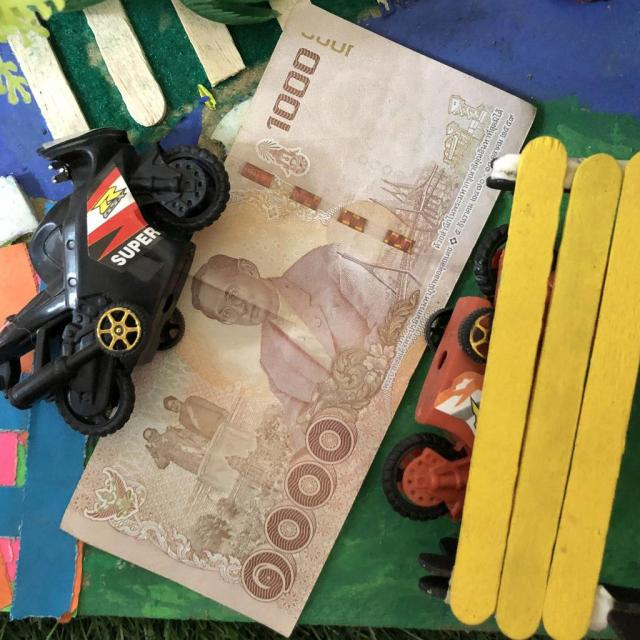THAI1000: (62, 4, 534, 634)
